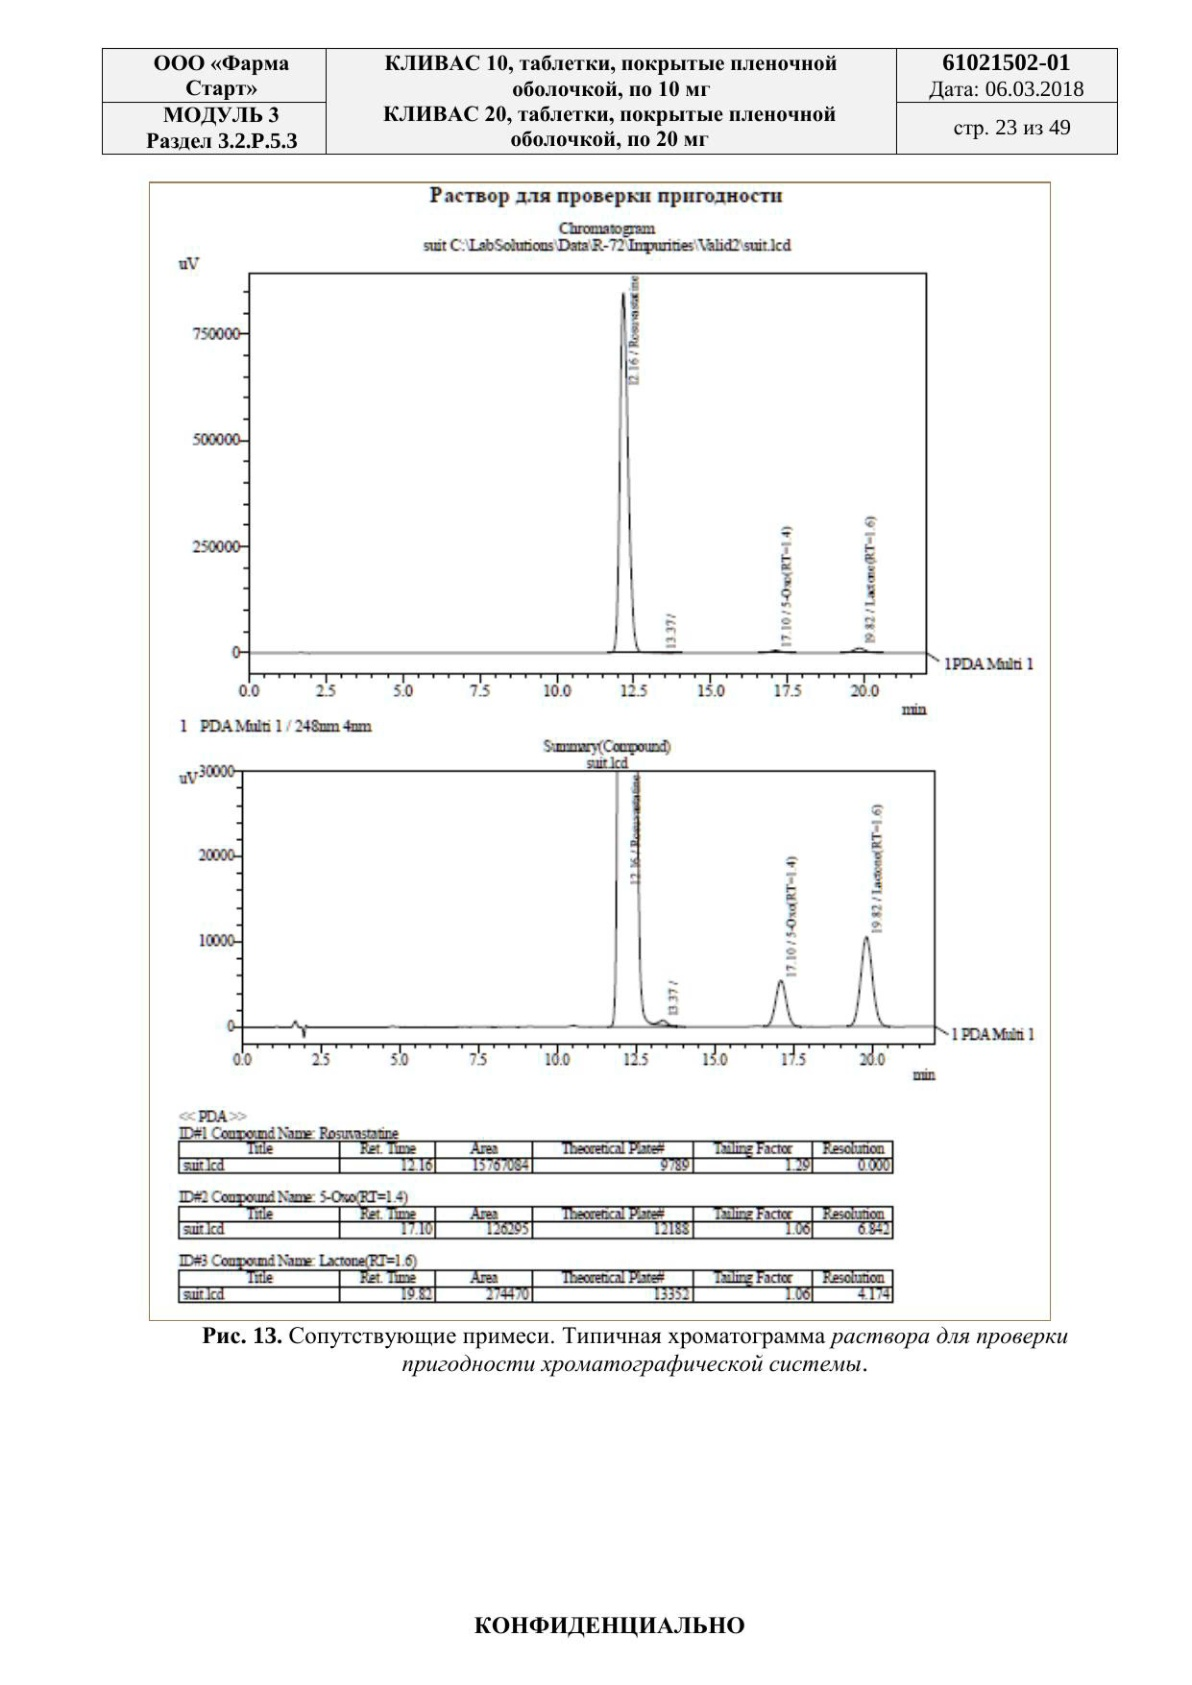full_lined: (175, 1139, 894, 1175), (175, 1205, 893, 1241), (175, 1268, 893, 1304)
merged_cells: (101, 46, 1118, 156)
